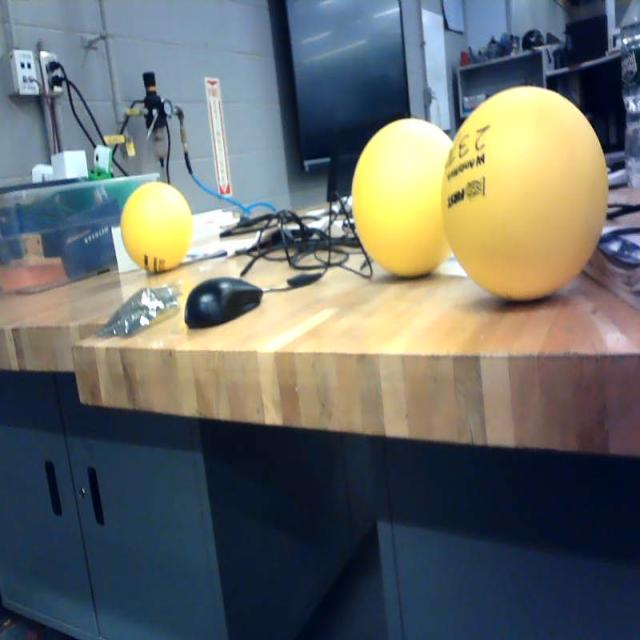Fuel: (441, 87, 609, 300), (352, 119, 461, 278), (120, 182, 193, 272)
